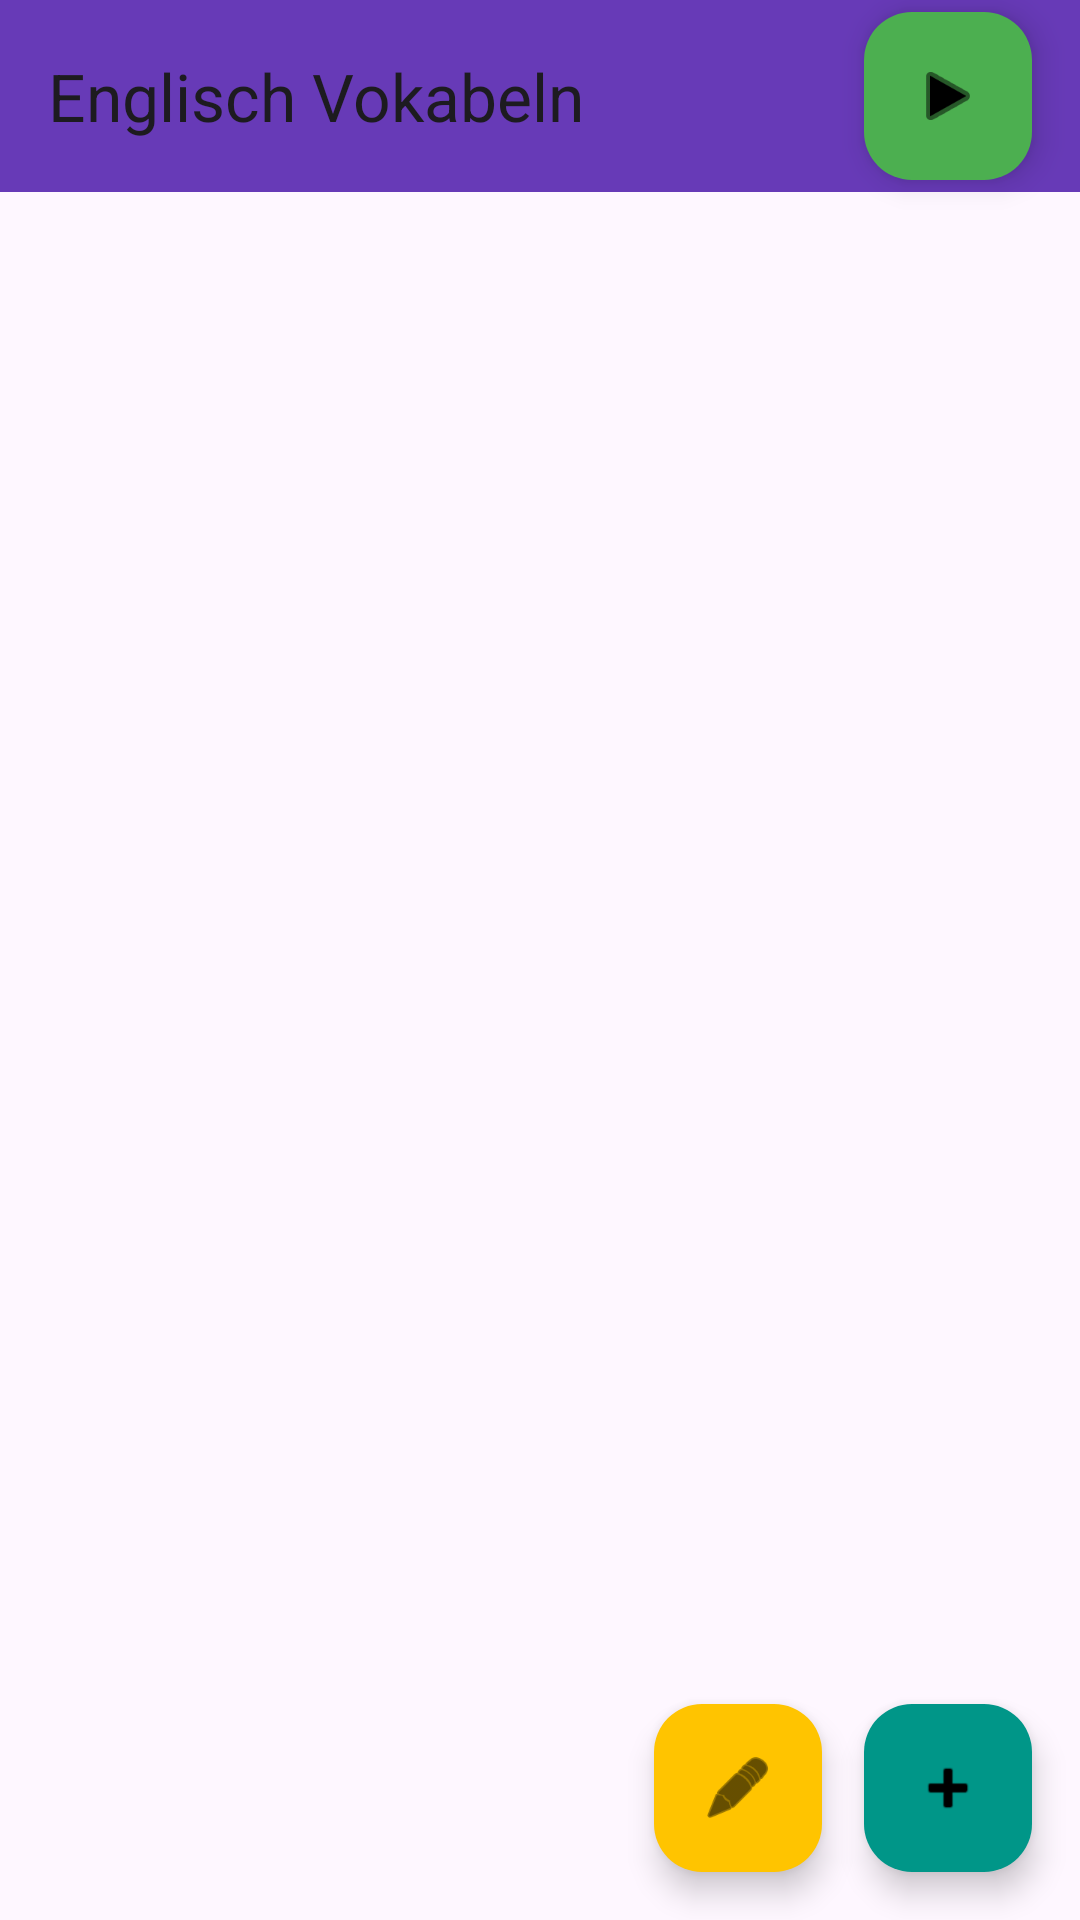

Icon bounding boxes for this 1080*1920 phone screenshot, format (x1, y1, x2, y2):
Vokabel hinzufügen: (864, 1704, 1032, 1872)
Vokabeln editieren: (654, 1704, 822, 1872)
Vokabeltest starten: (864, 12, 1032, 180)
